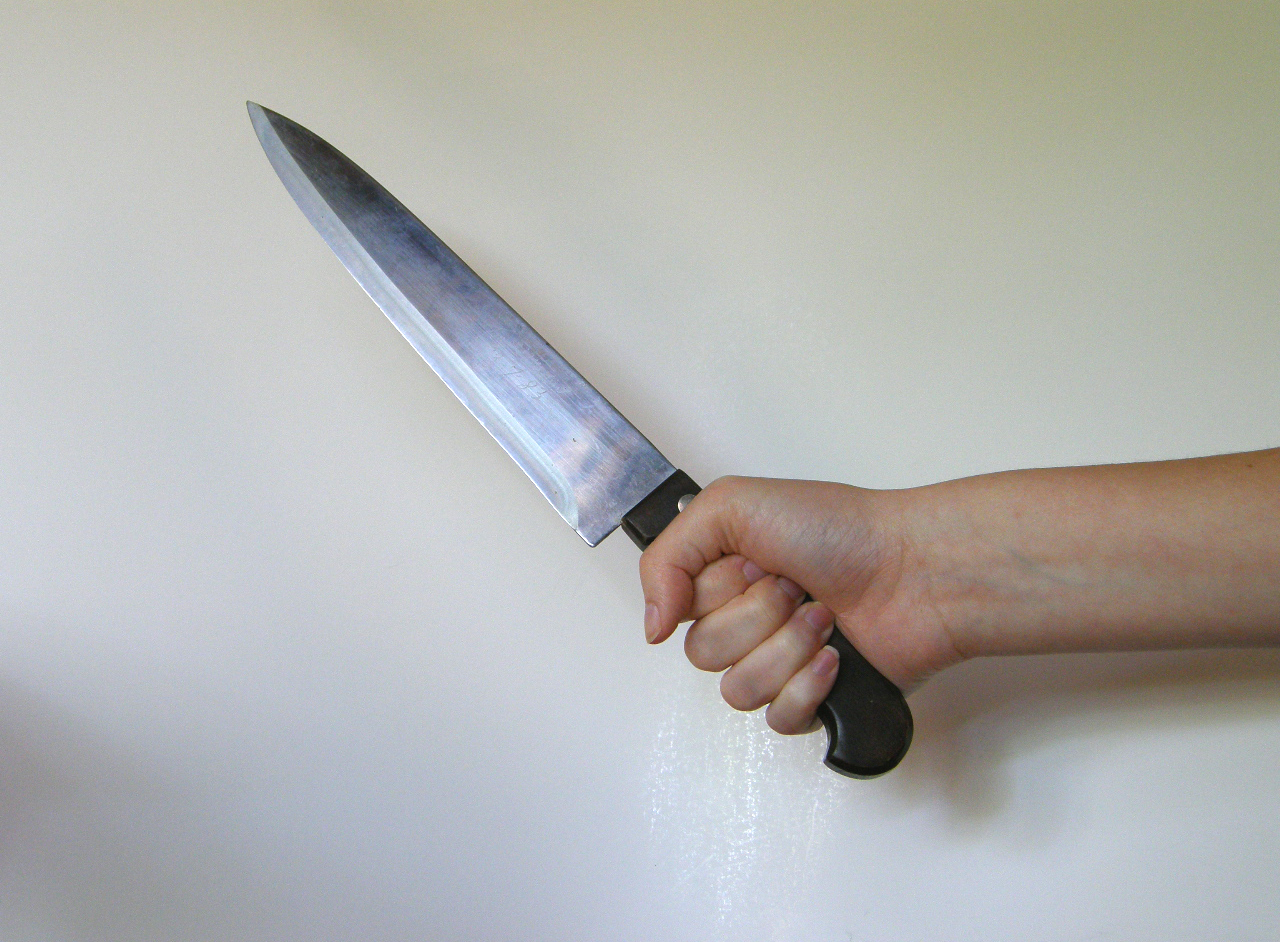knife: (238, 89, 852, 742)
